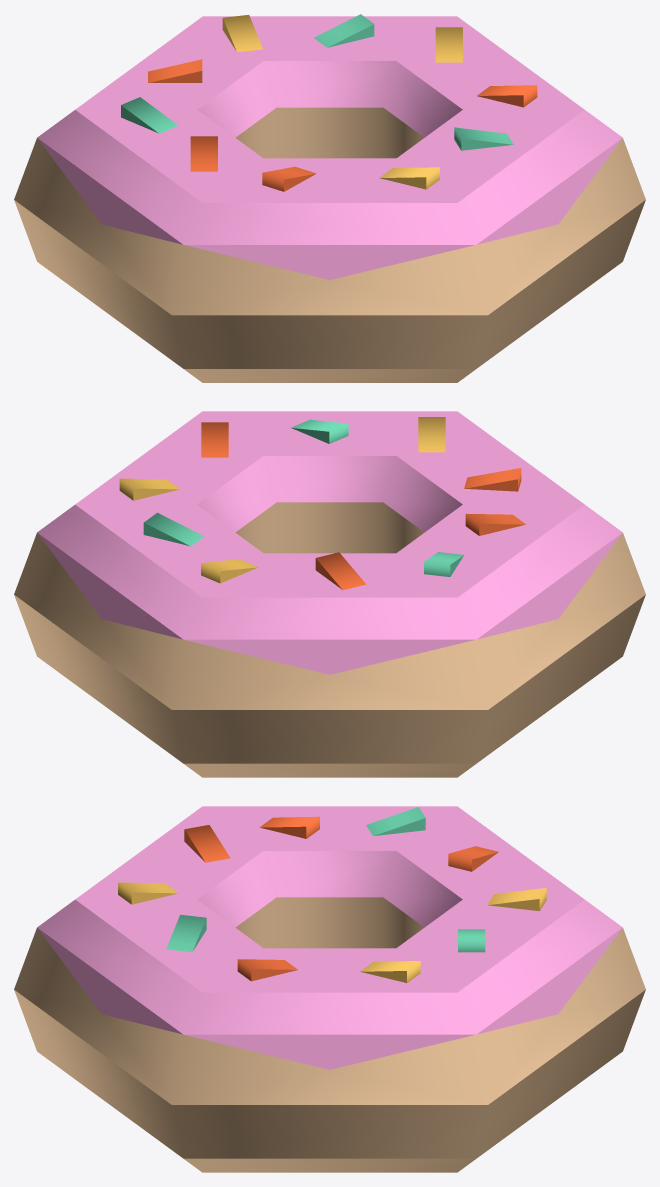
The model's file is donutSprinkles.GLB.
3 renders of one model, top to bottom at view 1: azimuth 30°, elevation 25°; view 2: azimuth 150°, elevation 25°; view 3: azimuth 270°, elevation 25°, orthographic.
Parts seen in each view (by area): view 1: donutSprinkles; view 2: donutSprinkles; view 3: donutSprinkles.
Boxes of the visible parts, x1=… form: donutSprinkles: x1=14, y1=14, x2=645, y2=382; donutSprinkles: x1=14, y1=411, x2=645, y2=777; donutSprinkles: x1=14, y1=806, x2=645, y2=1172.
Size of the model in its own units: 0.2451 by 0.095 by 0.283.
